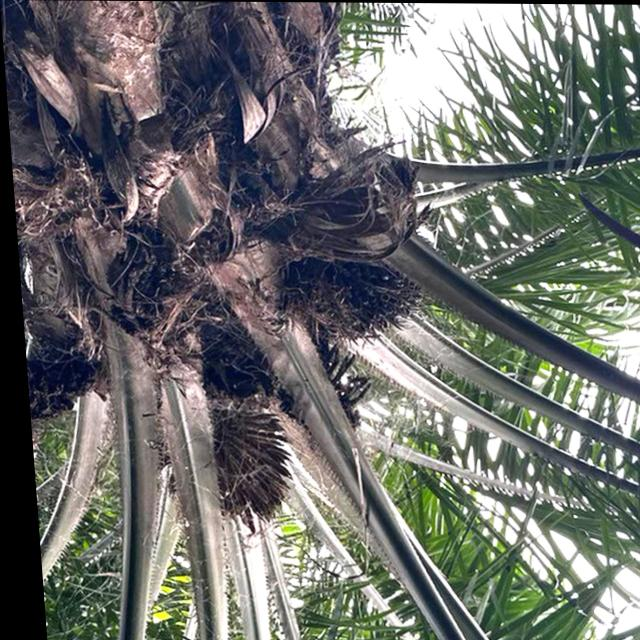almost: (285, 249, 428, 344)
